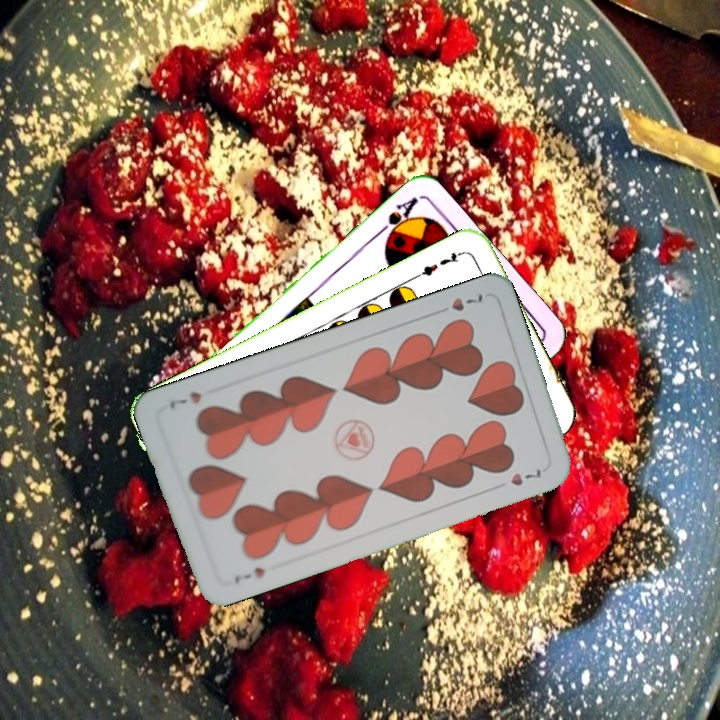E7: (411, 247, 466, 281)
H7: (431, 289, 486, 317), (230, 563, 268, 586)
SA: (372, 193, 420, 246)
